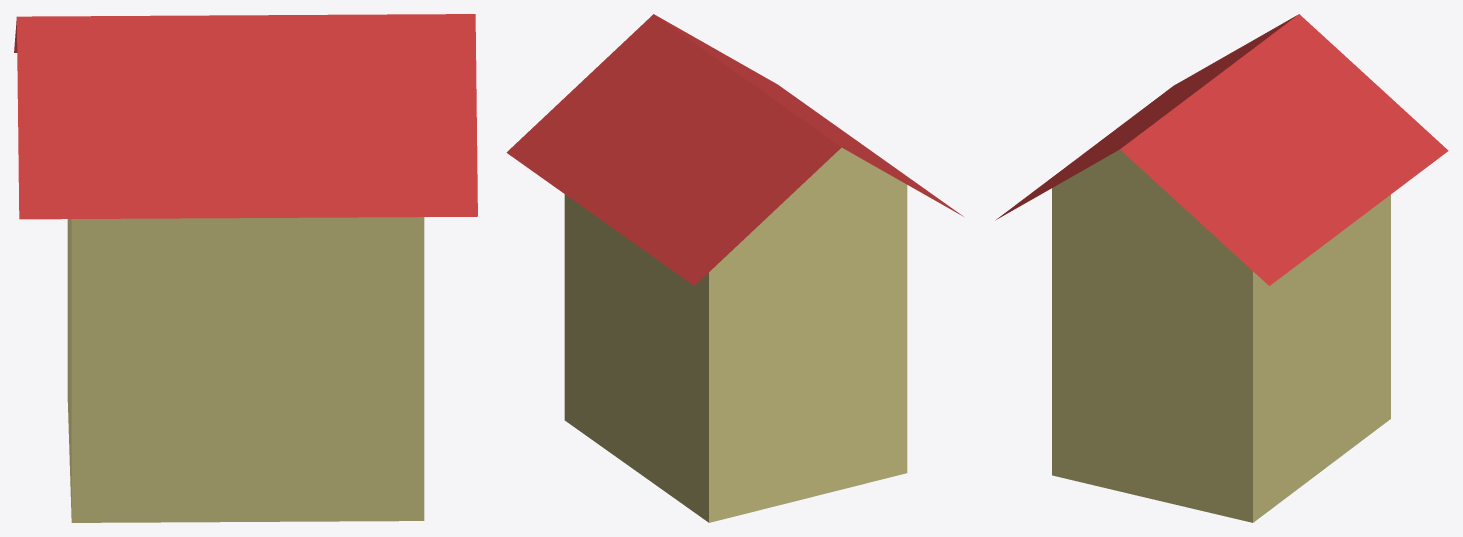
3 renders of one model, left to right at view 1: azimuth 30°, elevation 25°; view 2: azimuth 150°, elevation 25°; view 3: azimuth 270°, elevation 25°, orthographic. The views are drawn at different scales.
Size of the model in its own units: 11.16 by 10.69 by 9.41.
